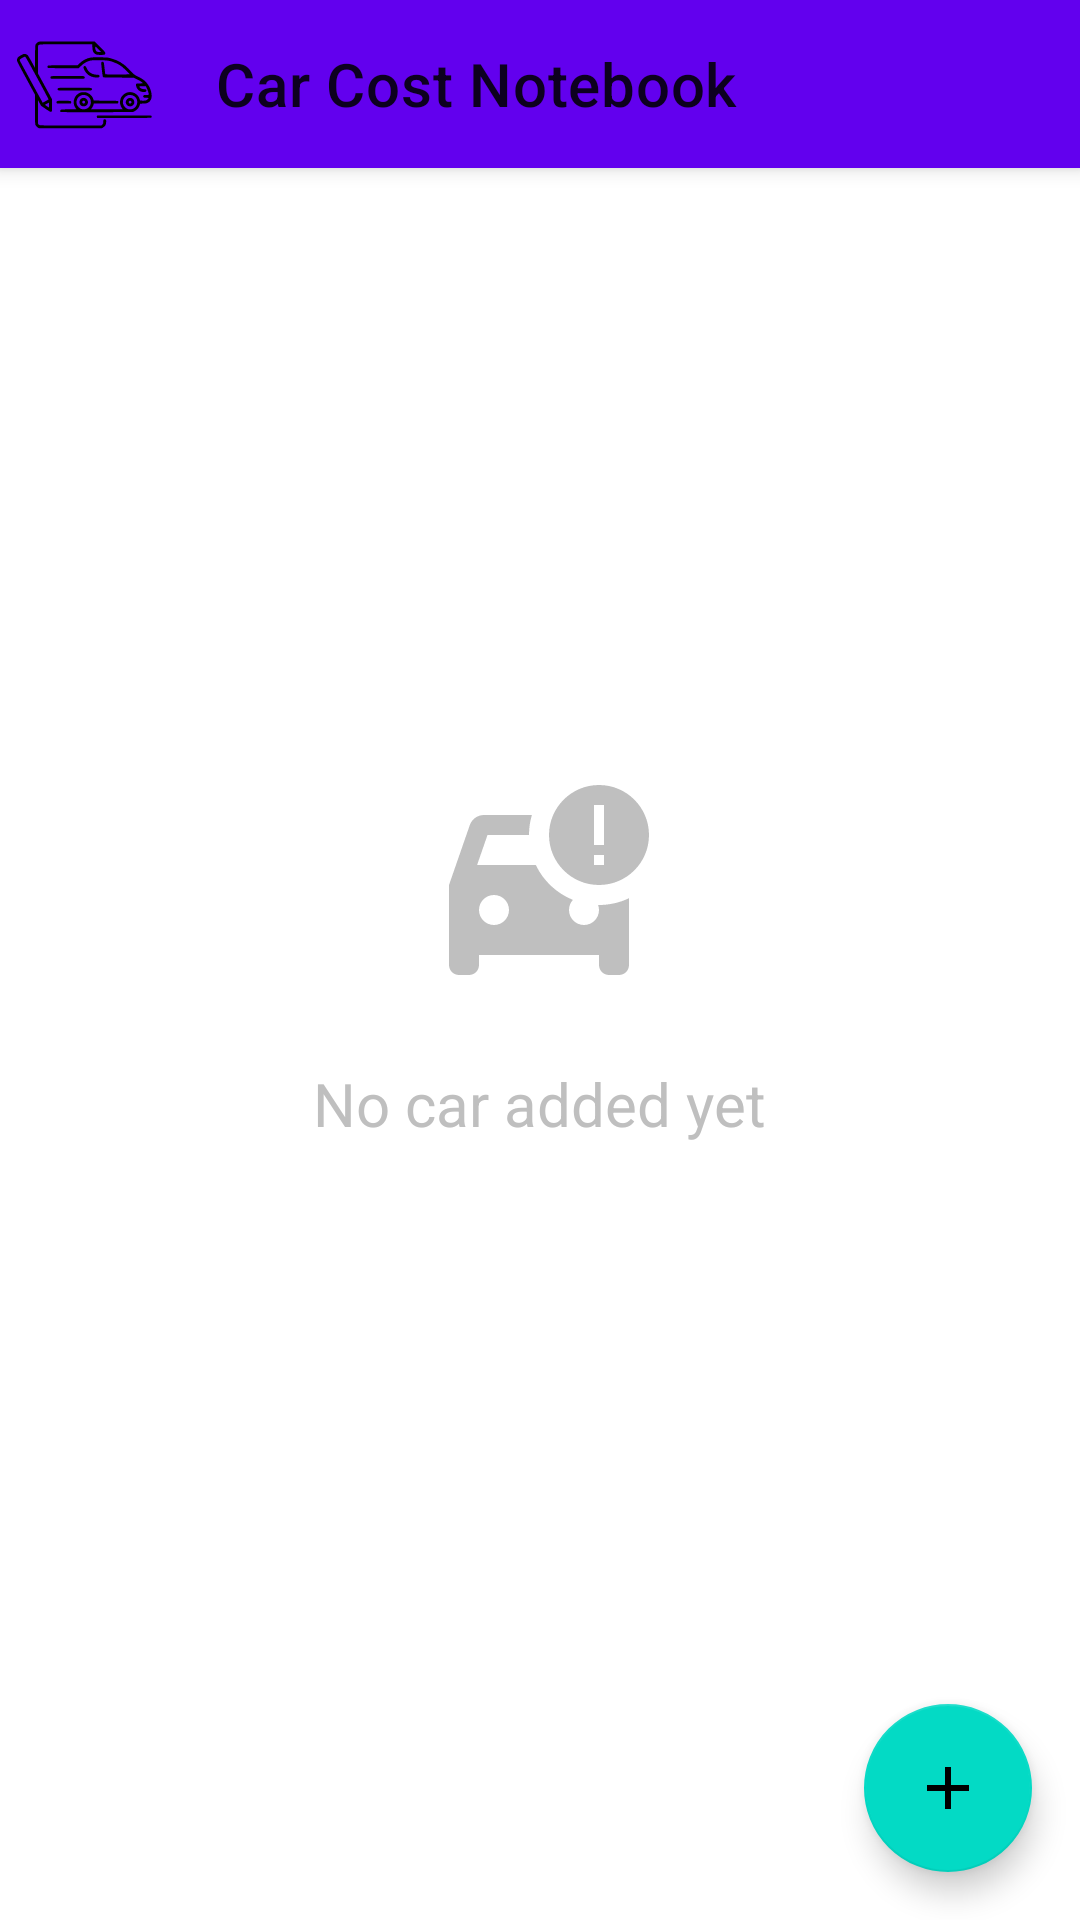

Screen size 1080×1920. Icon name, then its box in pixels as [x1, y1, x2, y2]:
Add new car: [864, 1704, 1032, 1872]
